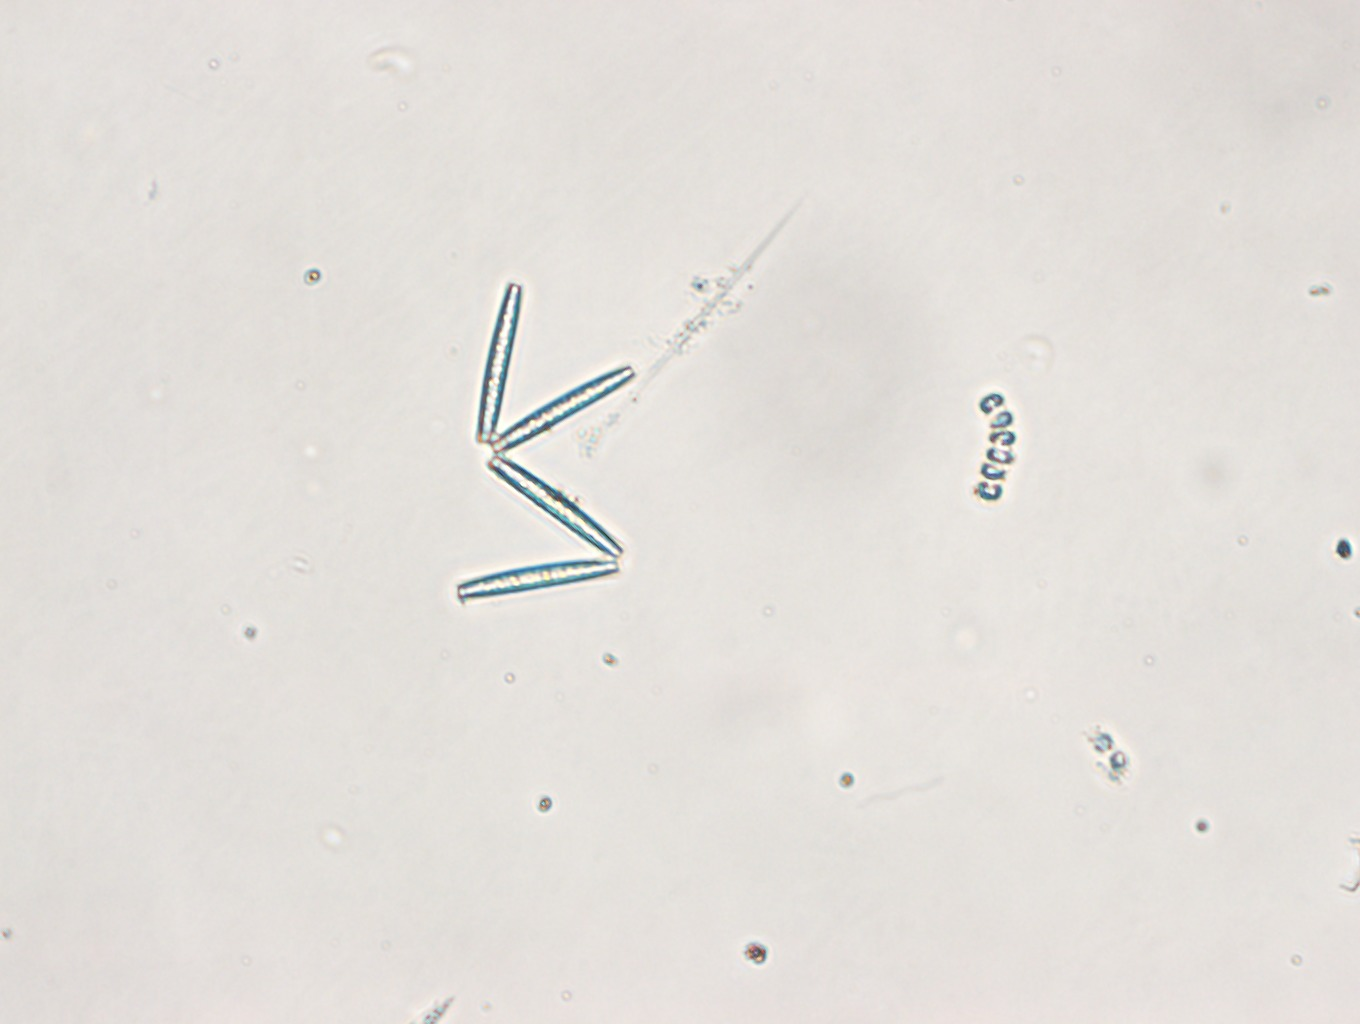skeletonema: (974, 392, 1016, 504)
thalassionema nitzschioides: (455, 280, 638, 606)
